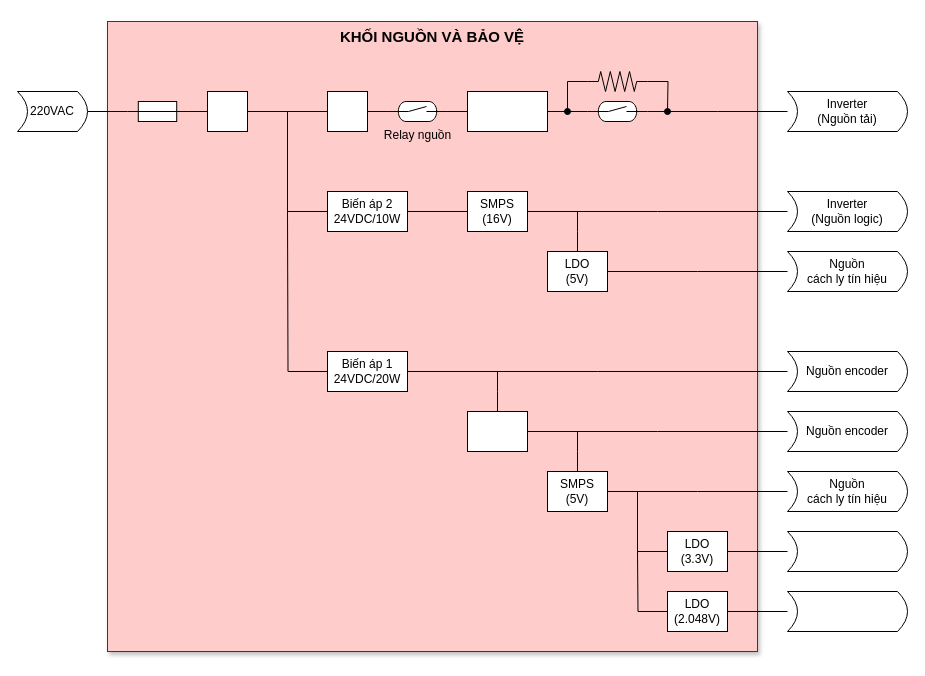
The diagram is 925 pixels wide and 676 high, and some of its shapes have lost their labels. Each missing label, with the centre of its shape:
"Cao áp (VDC)" goes at pixel 507 111.
"Chỉnh lưu" goes at pixel 347 111.
"Cầu chì" goes at pixel 157 111.
"Lọc nguồn" goes at pixel 227 111.
"Nguồn MCU, cảm biến" goes at pixel 847 551.
"Relay bảo vệ ngắn mạch" goes at pixel 617 111.
"SMPS (12V)" goes at pixel 497 431.
"Điện áp tham chiếu ADC" goes at pixel 847 611.
